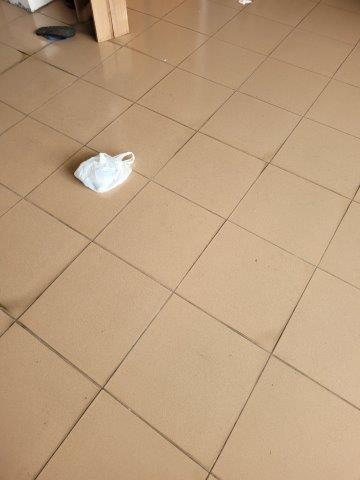plastik: (73, 150, 134, 193)
